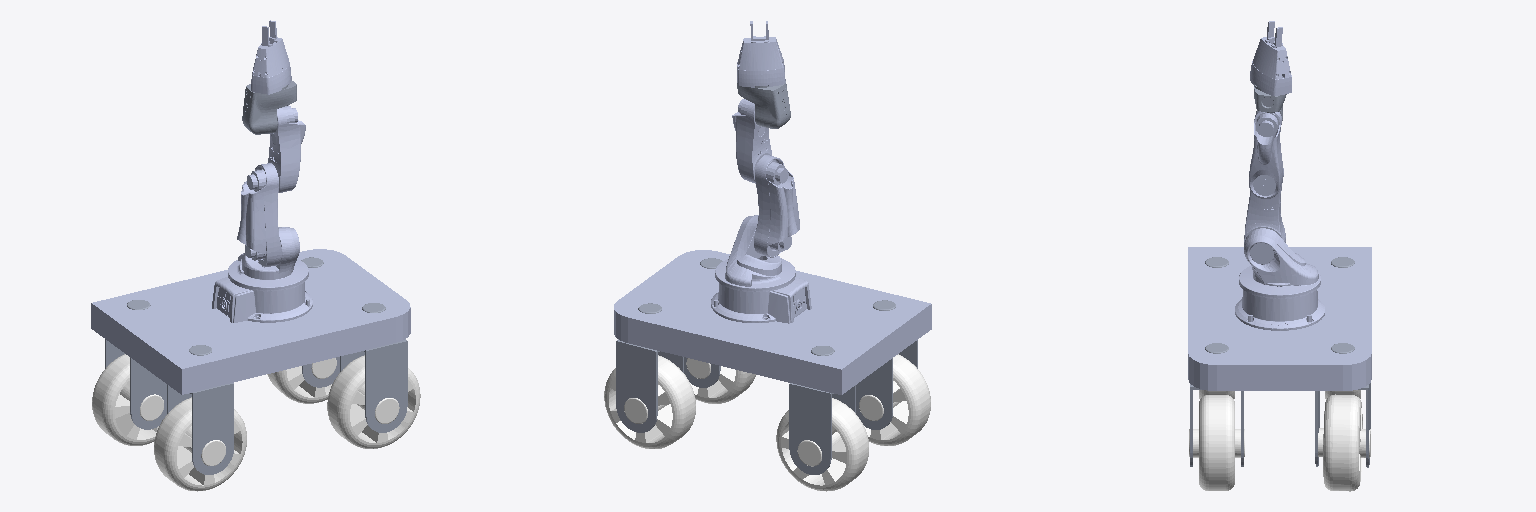
--- What the picture shows (computed from the rendered views, not written in the file) ---
Views: 3 orthographic renders of the robot side by side, from view 1: azimuth 30°, elevation 25°; view 2: azimuth 150°, elevation 25°; view 3: azimuth 270°, elevation 25°.
Robot: w_bot — 20 links, 19 joints (5 revolute, 8 continuous, 2 prismatic, 4 fixed); root link dummy_link; default pose: every joint at zero.
Links seen in each view (by area): view 1: base_link, rear_right_wheel, front_right_wheel, rear_left_wheel, link2, rear_right_steering, front_right_steering, link0, link1, link3, rear_left_steering, link4 (+4 smaller); view 2: base_link, rear_left_wheel, front_left_wheel, link2, rear_right_wheel, rear_left_steering, front_left_steering, link1, link0, rear_right_steering, link3, front_right_wheel (+5 smaller); view 3: base_link, link1, front_left_wheel, front_right_wheel, link0, link3, link2, front_left_steering, gripper_palm_right, link5, front_right_steering, link4.
Link boxes in pixels (left/top/right/bottom): base_link: left=91, top=249, right=410, bottom=394; rear_right_wheel: left=154, top=397, right=246, bottom=491; front_right_wheel: left=327, top=355, right=420, bottom=448; rear_left_wheel: left=92, top=354, right=163, bottom=445; link2: left=237, top=163, right=281, bottom=267; rear_right_steering: left=167, top=345, right=233, bottom=474; front_right_steering: left=340, top=303, right=407, bottom=432; link0: left=212, top=277, right=312, bottom=322; link1: left=228, top=227, right=308, bottom=291; link3: left=268, top=105, right=305, bottom=192; rear_left_steering: left=105, top=300, right=166, bottom=429; link4: left=242, top=81, right=296, bottom=134; base_link: left=614, top=250, right=931, bottom=394; rear_left_wheel: left=776, top=398, right=868, bottom=491; front_left_wheel: left=604, top=355, right=695, bottom=448; link2: left=754, top=155, right=799, bottom=257; rear_right_wheel: left=859, top=354, right=930, bottom=445; rear_left_steering: left=789, top=346, right=855, bottom=474; front_left_steering: left=616, top=303, right=683, bottom=432; link1: left=715, top=215, right=795, bottom=291; link0: left=711, top=277, right=811, bottom=323; rear_right_steering: left=856, top=300, right=917, bottom=429; link3: left=732, top=99, right=771, bottom=183; front_right_wheel: left=686, top=358, right=755, bottom=403; base_link: left=1188, top=247, right=1371, bottom=390; link1: left=1239, top=228, right=1320, bottom=298; front_left_wheel: left=1318, top=394, right=1370, bottom=491; front_right_wheel: left=1189, top=395, right=1244, bottom=490; link0: left=1235, top=290, right=1324, bottom=330; link3: left=1249, top=111, right=1282, bottom=198; link2: left=1244, top=168, right=1285, bottom=242; front_left_steering: left=1315, top=343, right=1370, bottom=467; gripper_palm_right: left=1260, top=44, right=1290, bottom=79; link5: left=1250, top=61, right=1291, bottom=95; front_right_steering: left=1190, top=343, right=1243, bottom=466; link4: left=1254, top=84, right=1286, bottom=120.
Bounding box of the posed robot: 0.6207 × 0.38 × 0.969 m (x, y, z).
Meshes: 19 distinct files referenced, 19 mesh visuals loaded (19 binary STL).

URDF robot description (w_bot):
<?xml version="1.0" encoding="utf-8"?>
<!-- This URDF was automatically created by SolidWorks to URDF Exporter! Originally created by Stephen Brawner ([email redacted]) 
     Commit Version: 1.6.0-4-g7f85cfe  Build Version: 1.6.7995.38578
     For more information, please see http://wiki.ros.org/sw_urdf_exporter -->
<robot
  name="w_bot">
  <link
    name="dummy_link">
  </link>
  <link
    name="base_link">
    <inertial>
      <origin
        xyz="-0.00200699862576349 -2.13312816867861E-17 0.285008038445475"
        rpy="0 0 0" />
      <mass
        value="50" />
      <inertia
        ixx="0.151999823484139"
        ixy="-9.91313365304454E-17"
        ixz="-9.36517175515617E-06"
        iyy="0.346524834291877"
        iyz="9.70554700988311E-19"
        izz="0.490920314893153" />
    </inertial>
    <visual>
      <origin
        xyz="0 0 0"
        rpy="0 0 0" />
      <geometry>
        <mesh
          filename="package://w_bot/meshes/base_link.STL" />
      </geometry>
      <material
        name="">
        <color
          rgba="0.792156862745098 0.819607843137255 0.933333333333333 1" />
      </material>
    </visual>
    <collision>
      <origin
        xyz="0 0 0"
        rpy="0 0 0" />
      <geometry>
        <mesh
          filename="package://w_bot/meshes/base_link.STL" />
      </geometry>
    </collision>
  </link>
  <joint
    name="dummy_joint0"
    type="fixed">
    <origin
      xyz="0 0 0"
      rpy="0 0 0" />
    <parent
      link="dummy_link" />
    <child
      link="base_link" />
    <axis
      xyz="0 0 1" />
  </joint>
  <link
    name="front_right_steering">
    <inertial>
      <origin
        xyz="0 -8.32667268468867E-17 -0.0948745119015975"
        rpy="0 0 0" />
      <mass
        value="0.343325535524776" />
      <inertia
        ixx="0.00209048259873069"
        ixy="4.0272764241542E-19"
        ixz="2.04108871969044E-19"
        iyy="0.00178958510713681"
        iyz="-6.59981132775866E-19"
        izz="0.000711889056391906" />
    </inertial>
    <visual>
      <origin
        xyz="0 0 0"
        rpy="0 0 0" />
      <geometry>
        <mesh
          filename="package://w_bot/meshes/front_right_steering.STL" />
      </geometry>
      <material
        name="">
        <color
          rgba="0.666666666666667 0.698039215686274 0.768627450980392 1" />
      </material>
    </visual>
    <collision>
      <origin
        xyz="0 0 0"
        rpy="0 0 0" />
      <geometry>
        <mesh
          filename="package://w_bot/meshes/front_right_steering.STL" />
      </geometry>
    </collision>
  </link>
  <joint
    name="front_right_steering_joint"
    type="continuous">
    <origin
      xyz="0.210000000000003 -0.13 0.3175"
      rpy="0 0 0" />
    <parent
      link="base_link" />
    <child
      link="front_right_steering" />
    <axis
      xyz="0 0 -1" />
  </joint>
  <link
    name="front_right_wheel">
    <inertial>
      <origin
        xyz="8.32667268468867E-17 0 0.0575"
        rpy="0 0 0" />
      <mass
        value="1.50180593472422" />
      <inertia
        ixx="0.00471014297750242"
        ixy="-3.38536977027541E-18"
        ixz="8.72037498563415E-20"
        iyy="0.00471014297750241"
        iyz="-8.2511266102166E-21"
        izz="0.00773327256883762" />
    </inertial>
    <visual>
      <origin
        xyz="0 0 0"
        rpy="0 0 0" />
      <geometry>
        <mesh
          filename="package://w_bot/meshes/front_right_wheel.STL" />
      </geometry>
      <material
        name="">
        <color
          rgba="1 1 1 1" />
      </material>
    </visual>
    <collision>
      <origin
        xyz="0 0 0"
        rpy="0 0 0" />
      <geometry>
        <mesh
          filename="package://w_bot/meshes/front_right_wheel.STL" />
      </geometry>
    </collision>
  </link>
  <joint
    name="front_right_wheel_joint"
    type="continuous">
    <origin
      xyz="0 -0.0575 -0.2175"
      rpy="1.5707963267949 0 3.14159265358979" />
    <parent
      link="front_right_steering" />
    <child
      link="front_right_wheel" />
    <axis
      xyz="0 0 1" />
  </joint>
  <link
    name="rear_right_steering">
    <inertial>
      <origin
        xyz="0 -2.77555756156289E-17 -0.0948745119015975"
        rpy="0 0 0" />
      <mass
        value="0.343325535524776" />
      <inertia
        ixx="0.00209048259873069"
        ixy="6.37440896126237E-20"
        ixz="-2.42768495506772E-19"
        iyy="0.00178958510713681"
        iyz="-4.51231378619127E-19"
        izz="0.000711889056391905" />
    </inertial>
    <visual>
      <origin
        xyz="0 0 0"
        rpy="0 0 0" />
      <geometry>
        <mesh
          filename="package://w_bot/meshes/rear_right_steering.STL" />
      </geometry>
      <material
        name="">
        <color
          rgba="0.666666666666667 0.698039215686274 0.768627450980392 1" />
      </material>
    </visual>
    <collision>
      <origin
        xyz="0 0 0"
        rpy="0 0 0" />
      <geometry>
        <mesh
          filename="package://w_bot/meshes/rear_right_steering.STL" />
      </geometry>
    </collision>
  </link>
  <joint
    name="rear_right_steering_joint"
    type="continuous">
    <origin
      xyz="-0.209999999999997 -0.13 0.3175"
      rpy="0 0 0" />
    <parent
      link="base_link" />
    <child
      link="rear_right_steering" />
    <axis
      xyz="0 0 -1" />
  </joint>
  <link
    name="rear_right_wheel">
    <inertial>
      <origin
        xyz="5.55111512312578E-17 0 0.0575"
        rpy="0 0 0" />
      <mass
        value="1.50180593472422" />
      <inertia
        ixx="0.00471014297750242"
        ixy="-3.35268579796889E-18"
        ixz="-3.46813134033493E-20"
        iyy="0.00471014297750242"
        iyz="1.21802345198436E-20"
        izz="0.00773327256883763" />
    </inertial>
    <visual>
      <origin
        xyz="0 0 0"
        rpy="0 0 0" />
      <geometry>
        <mesh
          filename="package://w_bot/meshes/rear_right_wheel.STL" />
      </geometry>
      <material
        name="">
        <color
          rgba="1 1 1 1" />
      </material>
    </visual>
    <collision>
      <origin
        xyz="0 0 0"
        rpy="0 0 0" />
      <geometry>
        <mesh
          filename="package://w_bot/meshes/rear_right_wheel.STL" />
      </geometry>
    </collision>
  </link>
  <joint
    name="rear_right_wheel_joint"
    type="continuous">
    <origin
      xyz="0 -0.0575 -0.2175"
      rpy="1.5707963267949 0 3.14159265358979" />
    <parent
      link="rear_right_steering" />
    <child
      link="rear_right_wheel" />
    <axis
      xyz="0 0 1" />
  </joint>
  <link
    name="rear_left_steering">
    <inertial>
      <origin
        xyz="-2.22044604925031E-16 -2.4980018054066E-16 -0.0948745119015974"
        rpy="0 0 0" />
      <mass
        value="0.343325535524775" />
      <inertia
        ixx="0.00209047454949007"
        ixy="1.55625560880888E-06"
        ixz="3.58407778364854E-19"
        iyy="0.00178959315637742"
        iyz="-1.27594134373904E-18"
        izz="0.000711889056391906" />
    </inertial>
    <visual>
      <origin
        xyz="0 0 0"
        rpy="0 0 0" />
      <geometry>
        <mesh
          filename="package://w_bot/meshes/rear_left_steering.STL" />
      </geometry>
      <material
        name="">
        <color
          rgba="0.666666666666667 0.698039215686274 0.768627450980392 1" />
      </material>
    </visual>
    <collision>
      <origin
        xyz="0 0 0"
        rpy="0 0 0" />
      <geometry>
        <mesh
          filename="package://w_bot/meshes/rear_left_steering.STL" />
      </geometry>
    </collision>
  </link>
  <joint
    name="rear_left_steering_joint"
    type="continuous">
    <origin
      xyz="-0.21 0.13 0.3175"
      rpy="0 0 0" />
    <parent
      link="base_link" />
    <child
      link="rear_left_steering" />
    <axis
      xyz="0 0 -1" />
  </joint>
  <link
    name="rear_left_wheel">
    <inertial>
      <origin
        xyz="2.77555756156289E-17 8.32667268468867E-17 -0.0575"
        rpy="0 0 0" />
      <mass
        value="1.50180593472422" />
      <inertia
        ixx="0.00471014297750242"
        ixy="3.72845188547579E-18"
        ixz="1.91429446079472E-19"
        iyy="0.00471014297750242"
        iyz="6.19925579287662E-20"
        izz="0.00773327256883763" />
    </inertial>
    <visual>
      <origin
        xyz="0 0 0"
        rpy="0 0 0" />
      <geometry>
        <mesh
          filename="package://w_bot/meshes/rear_left_wheel.STL" />
      </geometry>
      <material
        name="">
        <color
          rgba="1 1 1 1" />
      </material>
    </visual>
    <collision>
      <origin
        xyz="0 0 0"
        rpy="0 0 0" />
      <geometry>
        <mesh
          filename="package://w_bot/meshes/rear_left_wheel.STL" />
      </geometry>
    </collision>
  </link>
  <joint
    name="rear_left_wheel_joint"
    type="continuous">
    <origin
      xyz="-0.000297396611546957 0.0574992309101214 -0.2175"
      rpy="1.5707963267949 0 -3.13642051554641" />
    <parent
      link="rear_left_steering" />
    <child
      link="rear_left_wheel" />
    <axis
      xyz="0 0 1" />
  </joint>
  <link
    name="front_left_steering">
    <inertial>
      <origin
        xyz="0 -1.11022302462516E-16 -0.0948745119015975"
        rpy="0 0 0" />
      <mass
        value="0.343325535524776" />
      <inertia
        ixx="0.00208995035472705"
        ixy="-1.26438760644486E-05"
        ixz="-2.44947869489773E-19"
        iyy="0.00179011735114046"
        iyz="-9.75110720971707E-19"
        izz="0.000711889056391904" />
    </inertial>
    <visual>
      <origin
        xyz="0 0 0"
        rpy="0 0 0" />
      <geometry>
        <mesh
          filename="package://w_bot/meshes/front_left_steering.STL" />
      </geometry>
      <material
        name="">
        <color
          rgba="0.666666666666667 0.698039215686274 0.768627450980392 1" />
      </material>
    </visual>
    <collision>
      <origin
        xyz="0 0 0"
        rpy="0 0 0" />
      <geometry>
        <mesh
          filename="package://w_bot/meshes/front_left_steering.STL" />
      </geometry>
    </collision>
  </link>
  <joint
    name="front_left_steering_joint"
    type="continuous">
    <origin
      xyz="0.21 0.13 0.3175"
      rpy="0 0 0" />
    <parent
      link="base_link" />
    <child
      link="front_left_steering" />
    <axis
      xyz="0 0 -1" />
  </joint>
  <link
    name="front_left_wheel">
    <inertial>
      <origin
        xyz="8.32667268468867E-17 0 -0.0575"
        rpy="0 0 0" />
      <mass
        value="1.50180593472422" />
      <inertia
        ixx="0.00471014297750242"
        ixy="-3.20351669583436E-18"
        ixz="-1.21972744404619E-19"
        iyy="0.00471014297750241"
        iyz="-6.08234008535393E-20"
        izz="0.00773327256883762" />
    </inertial>
    <visual>
      <origin
        xyz="0 0 0"
        rpy="0 0 0" />
      <geometry>
        <mesh
          filename="package://w_bot/meshes/front_left_wheel.STL" />
      </geometry>
      <material
        name="">
        <color
          rgba="1 1 1 1" />
      </material>
    </visual>
    <collision>
      <origin
        xyz="0 0 0"
        rpy="0 0 0" />
      <geometry>
        <mesh
          filename="package://w_bot/meshes/front_left_wheel.STL" />
      </geometry>
    </collision>
  </link>
  <joint
    name="front_left_wheel_joint"
    type="continuous">
    <origin
      xyz="0.00241832101400169 0.0574491229130022 -0.2175"
      rpy="1.5707963267949 0 3.09952248793317" />
    <parent
      link="front_left_steering" />
    <child
      link="front_left_wheel" />
    <axis
      xyz="0 0 1" />
  </joint>
  <link
    name="link0">
    <inertial>
      <origin
        xyz="-0.00261120850252764 8.0006626810153E-06 0.0344132892443377"
        rpy="0 0 0" />
      <mass
        value="1.47778443330708" />
      <inertia
        ixx="0.00303565075376626"
        ixy="1.04893676467589E-06"
        ixz="3.04138651956345E-05"
        iyy="0.00333146452556424"
        iyz="6.92287819870057E-08"
        izz="0.00503333109253216" />
    </inertial>
    <visual>
      <origin
        xyz="0 0 0"
        rpy="0 0 0" />
      <geometry>
        <mesh
          filename="package://w_bot/meshes/link0.STL" />
      </geometry>
      <material
        name="">
        <color
          rgba="0.792156862745098 0.819607843137255 0.933333333333333 1" />
      </material>
    </visual>
    <collision>
      <origin
        xyz="0 0 0"
        rpy="0 0 0" />
      <geometry>
        <mesh
          filename="package://w_bot/meshes/link0.STL" />
      </geometry>
    </collision>
  </link>
  <joint
    name="joint0"
    type="fixed">
    <origin
      xyz="0.0291177377817213 6.99790320677758E-05 0.315"
      rpy="0 0 0" />
    <parent
      link="base_link" />
    <child
      link="link0" />
    <axis
      xyz="0 0 0" />
  </joint>
  <link
    name="link1">
    <inertial>
      <origin
        xyz="0.00514447038004035 -0.00564667876105351 0.108030009212003"
        rpy="0 0 0" />
      <mass
        value="0.733761313332628" />
      <inertia
        ixx="0.0017042580984216"
        ixy="5.12975027445611E-05"
        ixz="-0.000126172421903645"
        iyy="0.00130723288592695"
        iyz="0.000317940506748495"
        izz="0.00162933063156095" />
    </inertial>
    <visual>
      <origin
        xyz="0 0 0"
        rpy="0 0 0" />
      <geometry>
        <mesh
          filename="package://w_bot/meshes/link1.STL" />
      </geometry>
      <material
        name="">
        <color
          rgba="0.792156862745098 0.819607843137255 0.933333333333333 1" />
      </material>
    </visual>
    <collision>
      <origin
        xyz="0 0 0"
        rpy="0 0 0" />
      <geometry>
        <mesh
          filename="package://w_bot/meshes/link1.STL" />
      </geometry>
    </collision>
  </link>
  <joint
    name="joint1"
    type="revolute">
    <origin
      xyz="0 0 0"
      rpy="0 0 0" />
    <parent
      link="link0" />
    <child
      link="link1" />
    <axis
      xyz="0 0 -1" />
    <limit
      lower="-2.94"
      upper="2.94"
      effort="10"
      velocity="1" />
  </joint>
  <link
    name="link2">
    <inertial>
      <origin
        xyz="0.000510064243320618 0.0704167862887677 0.0227420598478098"
        rpy="0 0 0" />
      <mass
        value="0.693055133088331" />
      <inertia
        ixx="0.00227761838249711"
        ixy="6.85951479039397E-05"
        ixz="-5.60988557718838E-06"
        iyy="0.000485305047647708"
        iyz="-1.46012115706947E-05"
        izz="0.00229981260725225" />
    </inertial>
    <visual>
      <origin
        xyz="0 0 0"
        rpy="0 0 0" />
      <geometry>
        <mesh
          filename="package://w_bot/meshes/link2.STL" />
      </geometry>
      <material
        name="">
        <color
          rgba="0.792156862745098 0.819607843137255 0.933333333333333 1" />
      </material>
    </visual>
    <collision>
      <origin
        xyz="0 0 0"
        rpy="0 0 0" />
      <geometry>
        <mesh
          filename="package://w_bot/meshes/link2.STL" />
      </geometry>
    </collision>
  </link>
  <joint
    name="joint2"
    type="revolute">
    <origin
      xyz="-0.0126431422968624 -0.0317828720046074 0.148"
      rpy="1.5707963267949 0 -1.68315037854231" />
    <parent
      link="link1" />
    <child
      link="link2" />
    <axis
      xyz="0 0 1" />
    <limit
      lower="-1.13"
      upper="1.57"
      effort="250"
      velocity="0.001" />
  </joint>
  <link
    name="link3">
    <inertial>
      <origin
        xyz="-0.00195027935401905 0.0600873359212469 -0.0265049668315571"
        rpy="0 0 0" />
      <mass
        value="0.481769271380306" />
      <inertia
        ixx="0.00128920032095572"
        ixy="3.3740459885245E-05"
        ixz="-3.49037053738101E-06"
        iyy="0.000251223115947785"
        iyz="0.000105164539831942"
        izz="0.00129655764607978" />
    </inertial>
    <visual>
      <origin
        xyz="0 0 0"
        rpy="0 0 0" />
      <geometry>
        <mesh
          filename="package://w_bot/meshes/link3.STL" />
      </geometry>
      <material
        name="">
        <color
          rgba="0.792156862745098 0.819607843137255 0.933333333333333 1" />
      </material>
    </visual>
    <collision>
      <origin
        xyz="0 0 0"
        rpy="0 0 0" />
      <geometry>
        <mesh
          filename="package://w_bot/meshes/link3.STL" />
      </geometry>
    </collision>
  </link>
  <joint
    name="joint3"
    type="revolute">
    <origin
      xyz="-0.00503598542492214 0.154918168239888 -0.00750000000000006"
      rpy="0 0 0" />
    <parent
      link="link2" />
    <child
      link="link3" />
    <axis
      xyz="0 0 1" />
    <limit
      lower="-2.61"
      upper="2.54"
      effort="200"
      velocity="0.001" />
  </joint>
  <link
    name="link4">
    <inertial>
      <origin
        xyz="0.0358903012121067 6.96736098369094E-06 0.0129069830964411"
        rpy="0 0 0" />
      <mass
        value="0.446391150983284" />
      <inertia
        ixx="0.000425196459187386"
        ixy="-9.11997785920014E-09"
        ixz="0.000122609286787366"
        iyy="0.00069200931516819"
        iyz="-2.35798983722215E-07"
        izz="0.000489011598463673" />
    </inertial>
    <visual>
      <origin
        xyz="0 0 0"
        rpy="0 0 0" />
      <geometry>
        <mesh
          filename="package://w_bot/meshes/link4.STL" />
      </geometry>
      <material
        name="">
        <color
          rgba="0.666666666666667 0.698039215686274 0.768627450980392 1" />
      </material>
    </visual>
    <collision>
      <origin
        xyz="0 0 0"
        rpy="0 0 0" />
      <geometry>
        <mesh
          filename="package://w_bot/meshes/link4.STL" />
      </geometry>
    </collision>
  </link>
  <joint
    name="joint4"
    type="revolute">
    <origin
      xyz="-0.00438618085367151 0.13492872717665 -0.00170000000000002"
      rpy="0 0 1.62820428870464" />
    <parent
      link="link3" />
    <child
      link="link4" />
    <axis
      xyz="0 0 1" />
    <limit
      lower="-2.5"
      upper="2.5"
      effort="100"
      velocity="0.1" />
  </joint>
  <link
    name="link5">
    <inertial>
      <origin
        xyz="0.0460949377143167 0.0260205801671467 -0.479264421972465"
        rpy="0 0 0" />
      <mass
        value="0.350319602764493" />
      <inertia
        ixx="1.23006701898128"
        ixy="0.0432231898957994"
        ixz="0.0299768808470771"
        iyy="0.834148802374799"
        iyz="0.0258639445075269"
        izz="0.977772631731636" />
    </inertial>
    <visual>
      <origin
        xyz="0 0 0"
        rpy="0 0 0" />
      <geometry>
        <mesh
          filename="package://w_bot/meshes/link5.STL" />
      </geometry>
      <material
        name="">
        <color
          rgba="0.792156862745098 0.819607843137255 0.933333333333333 1" />
      </material>
    </visual>
    <collision>
      <origin
        xyz="0 0 0"
        rpy="0 0 0" />
      <geometry>
        <mesh
          filename="package://w_bot/meshes/link5.STL" />
      </geometry>
    </collision>
  </link>
  <joint
    name="joint5"
    type="revolute">
    <origin
      xyz="0 0 0"
      rpy="1.5707963267949 0 1.5707963267949" />
    <parent
      link="link4" />
    <child
      link="link5" />
    <axis
      xyz="0 0 -1" />
    <limit
      lower="-2.9"
      upper="2.9"
      effort="100"
      velocity="1" />
  </joint>
  <link
    name="gripper_palm_left">
    <inertial>
      <origin
        xyz="0.000229835745878836 0.0207985081850281 0.0240642112150747"
        rpy="0 0 0" />
      <mass
        value="0.0713145449930531" />
      <inertia
        ixx="3.01150026931823E-05"
        ixy="3.30348229797603E-08"
        ixz="1.10698296624696E-08"
        iyy="3.30864068595941E-05"
        iyz="1.32246210333814E-06"
        izz="2.43258650049354E-05" />
    </inertial>
    <visual>
      <origin
        xyz="0 0 0"
        rpy="0 0 0" />
      <geometry>
        <mesh
          filename="package://w_bot/meshes/gripper_palm_left.STL" />
      </geometry>
      <material
        name="">
        <color
          rgba="0.792156862745098 0.819607843137255 0.933333333333333 1" />
      </material>
    </visual>
    <collision>
      <origin
        xyz="0 0 0"
        rpy="0 0 0" />
      <geometry>
        <mesh
          filename="package://w_bot/meshes/gripper_palm_left.STL" />
      </geometry>
    </collision>
  </link>
  <joint
    name="gripper_palm_left_joint"
    type="fixed">
    <origin
      xyz="0 0.0016000000000001 0.114600000000015"
      rpy="0 0 0.653139059166683" />
    <parent
      link="link5" />
    <child
      link="gripper_palm_left" />
    <axis
      xyz="0 0 0" />
  </joint>
  <link
    name="finger_left">
    <inertial>
      <origin
        xyz="0.0145561468305089 -0.00177284153980269 0.00378643187939565"
        rpy="0 0 0" />
      <mass
        value="0.00670310492452354" />
      <inertia
        ixx="2.86335685110243E-06"
        ixy="-6.24054240225482E-10"
        ixz="-2.16473655628847E-07"
        iyy="2.79738281964956E-06"
        iyz="2.04746041239626E-09"
        izz="1.78915238314422E-07" />
    </inertial>
    <visual>
      <origin
        xyz="0 0 0"
        rpy="0 0 0" />
      <geometry>
        <mesh
          filename="package://w_bot/meshes/finger_left.STL" />
      </geometry>
      <material
        name="">
        <color
          rgba="0.792156862745098 0.819607843137255 0.933333333333333 1" />
      </material>
    </visual>
    <collision>
      <origin
        xyz="0 0 0"
        rpy="0 0 0" />
      <geometry>
        <mesh
          filename="package://w_bot/meshes/finger_left.STL" />
      </geometry>
    </collision>
  </link>
  <joint
    name="finger_left_joint"
    type="prismatic">
    <origin
      xyz="0 0 0.058"
      rpy="0 0 1.5693" />
    <parent
      link="gripper_palm_left" />
    <child
      link="finger_left" />
    <axis
      xyz="1 0 0" />
    <limit
      lower="0"
      upper="-0.0085"
      effort="200"
      velocity="0.001" />
  </joint>
  <link
    name="gripper_palm_right">
    <inertial>
      <origin
        xyz="-3.29660182182626E-05 -0.0208000625376352 0.0240641413795085"
        rpy="0 0 0" />
      <mass
        value="0.0713160023535917" />
      <inertia
        ixx="3.01151741417681E-05"
        ixy="5.12995378232713E-09"
        ixz="1.51155601253143E-09"
        iyy="3.30869800124167E-05"
        iyz="-1.32263213649164E-06"
        izz="2.43263243109523E-05" />
    </inertial>
    <visual>
      <origin
        xyz="0 0 0"
        rpy="0 0 0" />
      <geometry>
        <mesh
          filename="package://w_bot/meshes/gripper_palm_right.STL" />
      </geometry>
      <material
        name="">
        <color
          rgba="0.792156862745098 0.819607843137255 0.933333333333333 1" />
      </material>
    </visual>
    <collision>
      <origin
        xyz="0 0 0"
        rpy="0 0 0" />
      <geometry>
        <mesh
          filename="package://w_bot/meshes/gripper_palm_right.STL" />
      </geometry>
    </collision>
  </link>
  <joint
    name="gripper_palm_right_joint"
    type="fixed">
    <origin
      xyz="0 0.0016000000000001 0.114600000000015"
      rpy="0 0 0.653139059166683" />
    <parent
      link="link5" />
    <child
      link="gripper_palm_right" />
    <axis
      xyz="0 0 0" />
  </joint>
  <link
    name="finger_right">
    <inertial>
      <origin
        xyz="-0.0140945198980545 -0.00163509283293525 0.00378643187939542"
        rpy="0 0 0" />
      <mass
        value="0.00670310492452355" />
      <inertia
        ixx="2.863362753559E-06"
        ixy="2.11758236813575E-22"
        ixz="2.16483338101245E-07"
        iyy="2.79737691719298E-06"
        iyz="-1.6675961149069E-21"
        izz="1.78915238314422E-07" />
    </inertial>
    <visual>
      <origin
        xyz="0 0 0"
        rpy="0 0 0" />
      <geometry>
        <mesh
          filename="package://w_bot/meshes/finger_right.STL" />
      </geometry>
      <material
        name="">
        <color
          rgba="0.792156862745098 0.819607843137255 0.933333333333333 1" />
      </material>
    </visual>
    <collision>
      <origin
        xyz="0 0 0"
        rpy="0 0 0" />
      <geometry>
        <mesh
          filename="package://w_bot/meshes/finger_right.STL" />
      </geometry>
    </collision>
  </link>
  <joint
    name="finger_right_joint"
    type="prismatic">
    <origin
      xyz="0 0 0.058"
      rpy="0 0 1.5693" />
    <parent
      link="gripper_palm_right" />
    <child
      link="finger_right" />
    <axis
      xyz="1 0 0" />
    <limit
      lower="0"
      upper="0.0085"
      effort="200"
      velocity="0.001" />
  </joint>
  <transmission name="rear_right_wheel_trans">
    <type>transmission_interface/SimpleTransmission</type>
    <joint name="rear_right_wheel_joint">
      <hardwareInterface>VelocityJointInterface</hardwareInterface>
    </joint>
    <actuator name="rear_right_wheel_motor">
      <mechanicalReduction>1</mechanicalReduction>
      <hardwareInterface>VelocityJointInterface</hardwareInterface>
    </actuator>
  </transmission>
  <transmission name="rear_left_wheel_trans">
    <type>transmission_interface/SimpleTransmission</type>
    <joint name="rear_left_wheel_joint">
      <hardwareInterface>VelocityJointInterface</hardwareInterface>
    </joint>
    <actuator name="rear_left_wheel_motor">
      <mechanicalReduction>1</mechanicalReduction>
      <hardwareInterface>VelocityJointInterface</hardwareInterface>
    </actuator>
  </transmission>
  <transmission name="front_right_wheel_trans">
    <type>transmission_interface/SimpleTransmission</type>
    <joint name="front_right_wheel_joint">
      <hardwareInterface>VelocityJointInterface</hardwareInterface>
    </joint>
    <actuator name="front_right_wheel_motor">
      <mechanicalReduction>1</mechanicalReduction>
      <hardwareInterface>VelocityJointInterface</hardwareInterface>
    </actuator>
  </transmission>
  <transmission name="front_left_wheel_trans">
    <type>transmission_interface/SimpleTransmission</type>
    <joint name="front_left_wheel_joint">
      <hardwareInterface>VelocityJointInterface</hardwareInterface>
    </joint>
    <actuator name="front_left_wheel_motor">
      <mechanicalReduction>1</mechanicalReduction>
      <hardwareInterface>VelocityJointInterface</hardwareInterface>
    </actuator>
  </transmission>
  <transmission name="front_right_steering_trans">
    <type>transmission_interface/SimpleTransmission</type>
    <joint name="front_right_steering_joint">
      <hardwareInterface>EffortJointInterface</hardwareInterface>
    </joint>
    <actuator name="front_right_steering_motor">
      <mechanicalReduction>1</mechanicalReduction>
      <hardwareInterface>EffortJointInterface</hardwareInterface>
    </actuator>
  </transmission>
  <transmission name="rear_right_steering_trans">
    <type>transmission_interface/SimpleTransmission</type>
    <joint name="rear_right_steering_joint">
      <hardwareInterface>EffortJointInterface</hardwareInterface>
    </joint>
    <actuator name="rear_right_steering_motor">
      <mechanicalReduction>1</mechanicalReduction>
      <hardwareInterface>EffortJointInterface</hardwareInterface>
    </actuator>
  </transmission>
  <transmission name="rear_left_steering_trans">
    <type>transmission_interface/SimpleTransmission</type>
    <joint name="rear_left_steering_joint">
      <hardwareInterface>EffortJointInterface</hardwareInterface>
    </joint>
    <actuator name="rear_left_steering_motor">
      <mechanicalReduction>1</mechanicalReduction>
      <hardwareInterface>EffortJointInterface</hardwareInterface>
    </actuator>
  </transmission>
  <transmission name="front_left_steering_trans">
    <type>transmission_interface/SimpleTransmission</type>
    <joint name="front_left_steering_joint">
      <hardwareInterface>EffortJointInterface</hardwareInterface>
    </joint>
    <actuator name="front_left_steering_motor">
      <mechanicalReduction>1</mechanicalReduction>
      <hardwareInterface>EffortJointInterface</hardwareInterface>
   </actuator>
 </transmission>
 
 <transmission name="joint1_trans">
  <type>transmission_interface/SimpleTransmission</type>
  <joint name="joint1">
    <hardwareInterface>EffortJointInterface</hardwareInterface>
  </joint>
  <actuator name="joint1_motor">
    <mechanicalReduction>1</mechanicalReduction>
    <hardwareInterface>EffortJointInterface</hardwareInterface>
  </actuator>
 </transmission>
 
   <transmission name="joint2_trans">
  <type>transmission_interface/SimpleTransmission</type>
  <joint name="joint2">
    <hardwareInterface>EffortJointInterface</hardwareInterface>
  </joint>
  <actuator name="joint2_motor">
    <mechanicalReduction>1</mechanicalReduction>
    <hardwareInterface>EffortJointInterface</hardwareInterface>
  </actuator>
 </transmission>
 
   <transmission name="joint3_trans">
  <type>transmission_interface/SimpleTransmission</type>
  <joint name="joint3">
    <hardwareInterface>EffortJointInterface</hardwareInterface>
  </joint>
  <actuator name="joint3_motor">
    <mechanicalReduction>1</mechanicalReduction>
    <hardwareInterface>EffortJointInterface</hardwareInterface>
  </actuator>
 </transmission>
 
   <transmission name="joint4_trans">
  <type>transmission_interface/SimpleTransmission</type>
  <joint name="joint4">
    <hardwareInterface>EffortJointInterface</hardwareInterface>
  </joint>
  <actuator name="joint4_motor">
    <mechanicalReduction>1</mechanicalReduction>
    <hardwareInterface>EffortJointInterface</hardwareInterface>
  </actuator>
 </transmission>
 
   <transmission name="joint5_trans">
  <type>transmission_interface/SimpleTransmission</type>
  <joint name="joint5">
    <hardwareInterface>EffortJointInterface</hardwareInterface>
  </joint>
  <actuator name="joint5_motor">
    <mechanicalReduction>1</mechanicalReduction>
    <hardwareInterface>EffortJointInterface</hardwareInterface>
  </actuator>
 </transmission>
 <transmission name="finger_left_trans">
  <type>transmission_interface/SimpleTransmission</type>
  <joint name="finger_left_joint">
    <hardwareInterface>EffortJointInterface</hardwareInterface>
  </joint>
  <actuator name="finger_left_motor">
    <mechanicalReduction>1</mechanicalReduction>
    <hardwareInterface>EffortJointInterface</hardwareInterface>
  </actuator>
 </transmission>
 <transmission name="finger_right_trans">
  <type>transmission_interface/SimpleTransmission</type>
  <joint name="finger_right_joint">
    <hardwareInterface>EffortJointInterface</hardwareInterface>
  </joint>
  <actuator name="finger_right_motor">
    <mechanicalReduction>1</mechanicalReduction>
    <hardwareInterface>EffortJointInterface</hardwareInterface>
  </actuator>
 </transmission>
</robot>
